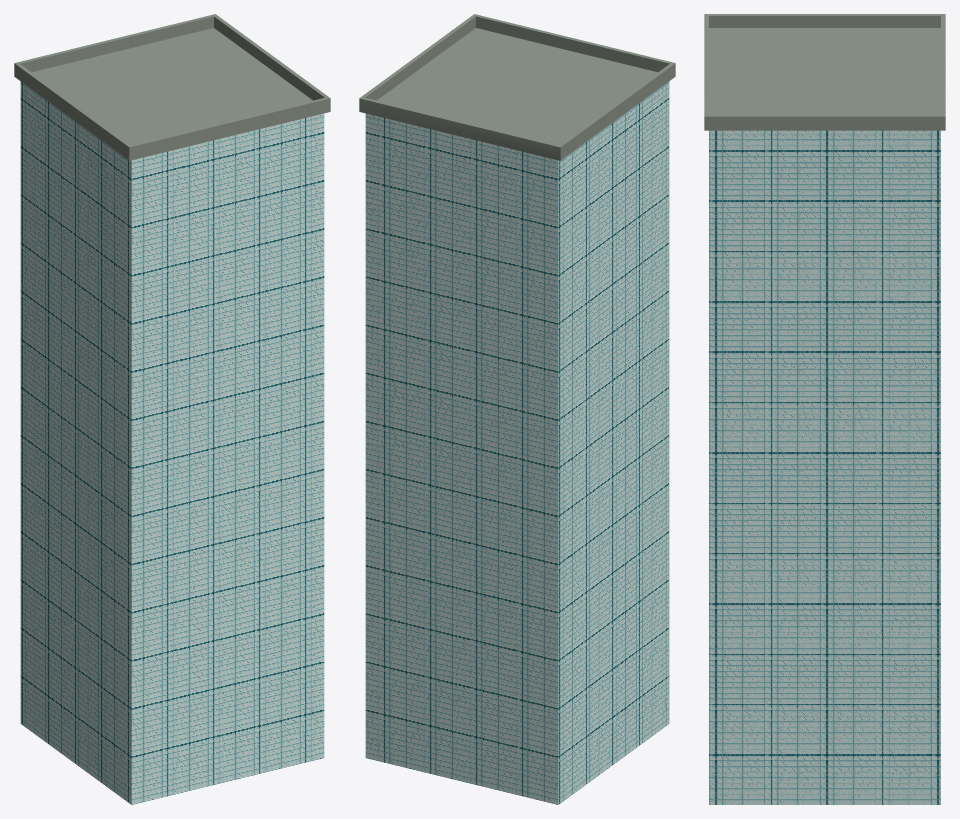
Rendered from BGN_WHITE BUILD.fbx.
3 views of the same model, side by side, from view 1: azimuth 30°, elevation 25°; view 2: azimuth 150°, elevation 25°; view 3: azimuth 270°, elevation 25° (orthographic). The views are drawn at different scales.
Visible parts, largest first — view 1: BGN_WHITE_BUILD; view 2: BGN_WHITE_BUILD; view 3: BGN_WHITE_BUILD.
Boxes of the visible parts, <box> form: BGN_WHITE_BUILD: <box>14,14,330,804</box>; BGN_WHITE_BUILD: <box>359,14,675,804</box>; BGN_WHITE_BUILD: <box>704,14,945,804</box>.
Size of the model in its own units: 3502 by 10973 by 3473.
